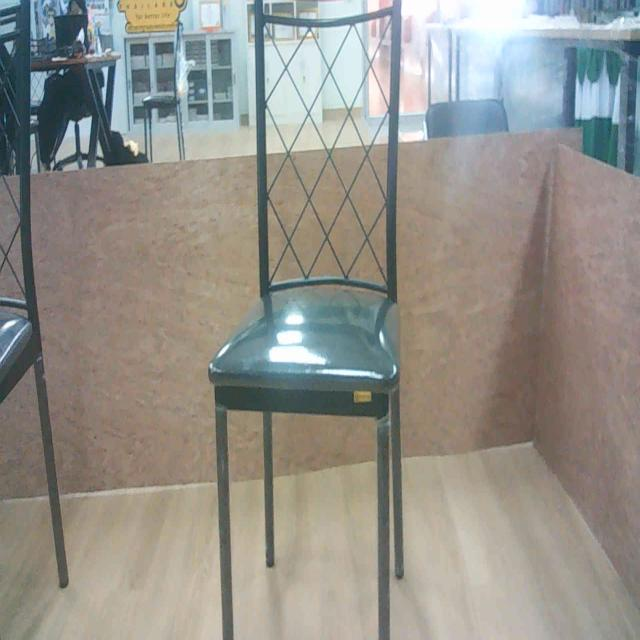emtpy: (204, 0, 412, 640)
